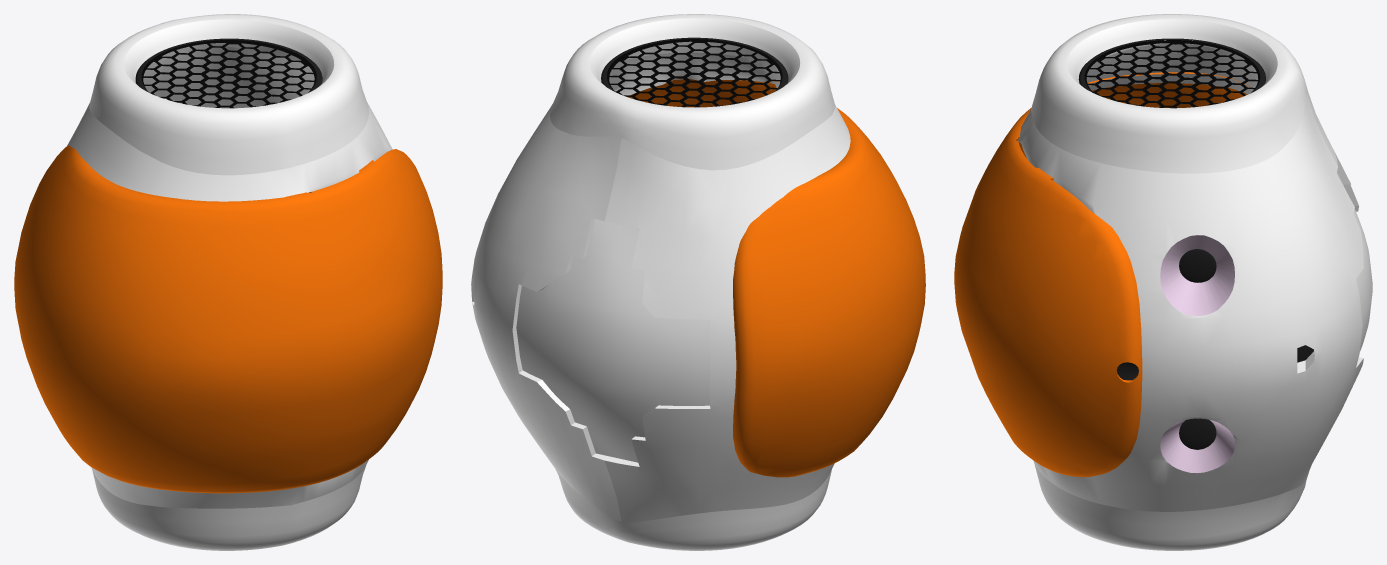
Rendered from HeadPitch.obj.
3 views of the same model, side by side, from view 1: azimuth 30°, elevation 25°; view 2: azimuth 150°, elevation 25°; view 3: azimuth 270°, elevation 25° (orthographic).
Visible parts, largest first — view 1: HeadPitch_Mesh; view 2: HeadPitch_Mesh; view 3: HeadPitch_Mesh.
Boxes of the visible parts, box(x1,y1,x2,y2) form: HeadPitch_Mesh: box(14, 14, 442, 550); HeadPitch_Mesh: box(471, 14, 925, 550); HeadPitch_Mesh: box(954, 14, 1372, 550).
Size of the model in its own units: 119 by 133 by 114.
5 materials, 1 textured.
